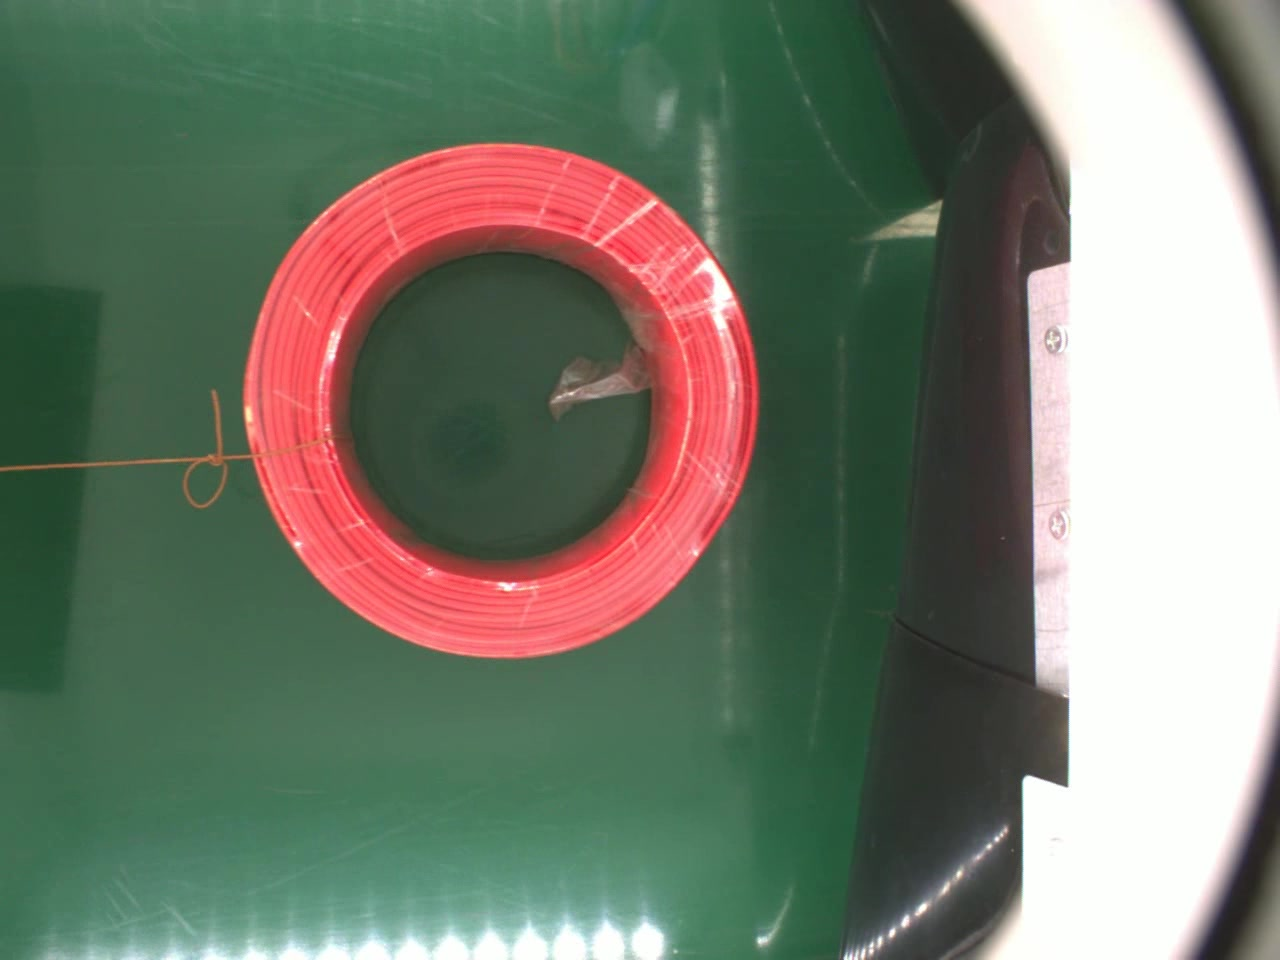red: (239, 136, 756, 662)
